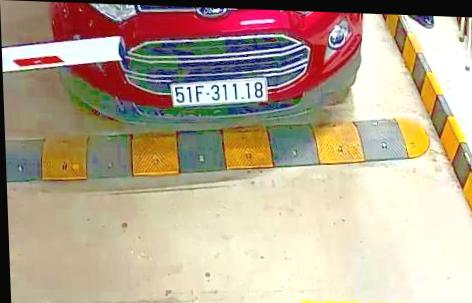License_Plate: (167, 75, 273, 112)
